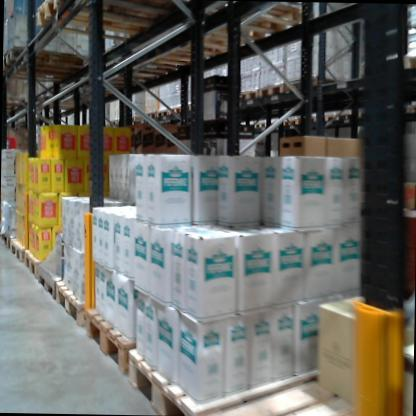pallet: (120, 335, 339, 415), (182, 373, 392, 416), (31, 0, 177, 44), (145, 16, 254, 70), (82, 303, 152, 379), (180, 3, 309, 44), (3, 45, 89, 80), (55, 274, 89, 331), (36, 261, 69, 307), (284, 76, 343, 100), (22, 244, 58, 282), (394, 53, 416, 81), (9, 235, 25, 264), (258, 81, 285, 98), (238, 85, 259, 104), (0, 229, 19, 250), (179, 101, 199, 115), (281, 116, 300, 128), (168, 103, 183, 117), (299, 114, 318, 125), (156, 106, 171, 119), (318, 113, 336, 123), (250, 120, 269, 129), (143, 111, 158, 121)
